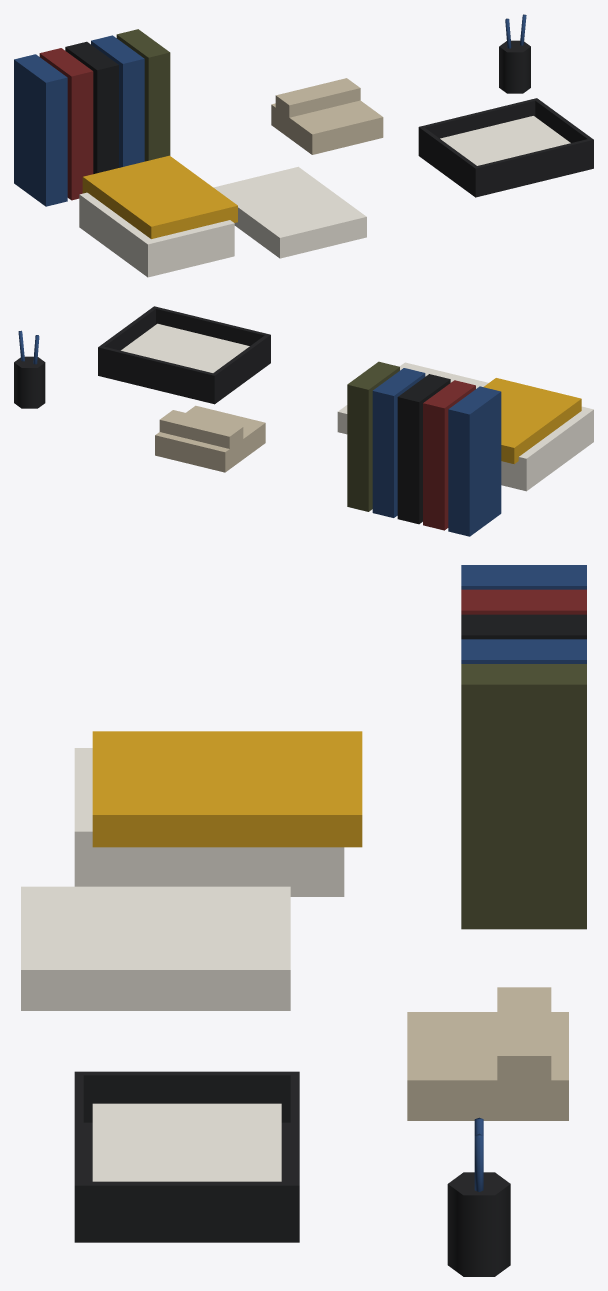
Rendered from desk_papers.glb.
3 renders of one model, top to bottom at view 1: azimuth 30°, elevation 25°; view 2: azimuth 150°, elevation 25°; view 3: azimuth 270°, elevation 25°, orthographic. The views are drawn at different scales.
Parts seen in each view (by area): view 1: desk_papers; view 2: desk_papers; view 3: desk_papers.
Part boxes in pixels (box(x1,y1,x2,y2)): desk_papers: box(14, 14, 593, 277); desk_papers: box(14, 306, 593, 536); desk_papers: box(21, 565, 586, 1276).
Bounding box in the file's own units: 1.23 × 0.3 × 0.63.
Materials: 1 (1 with a texture image).
